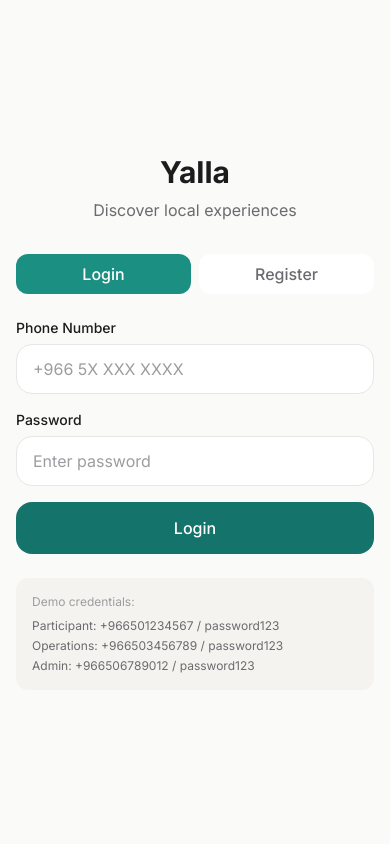
Test case: LoginPage › switches back to login mode when login button is clicked
Switch to register
Click the button "Register" at (286, 274), box x1=199 y1=254 x2=374 y2=294
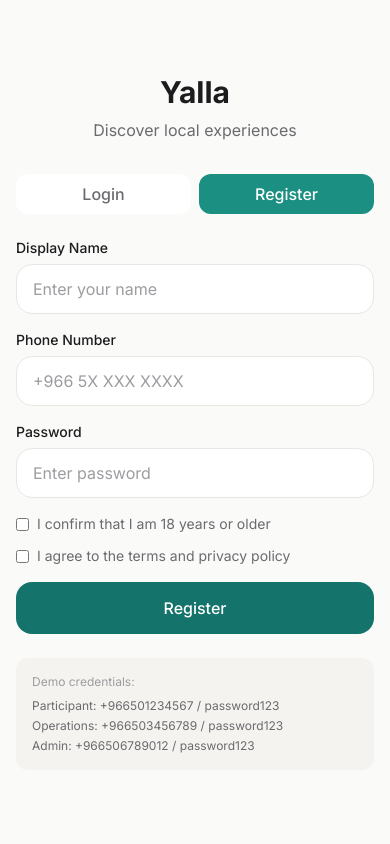
Now the text "Display Name" is shown, box x1=16 y1=239 x2=108 y2=256
Switch back to login
Click the button "Login" at (104, 194), box x1=16 y1=174 x2=191 y2=214
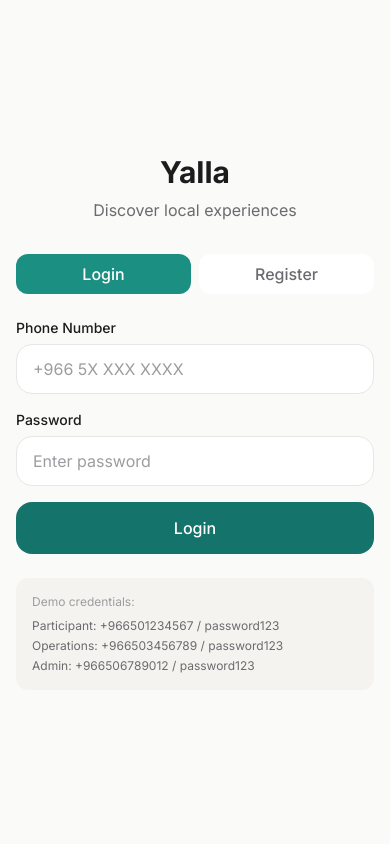
Now the text "Display Name" is gone
